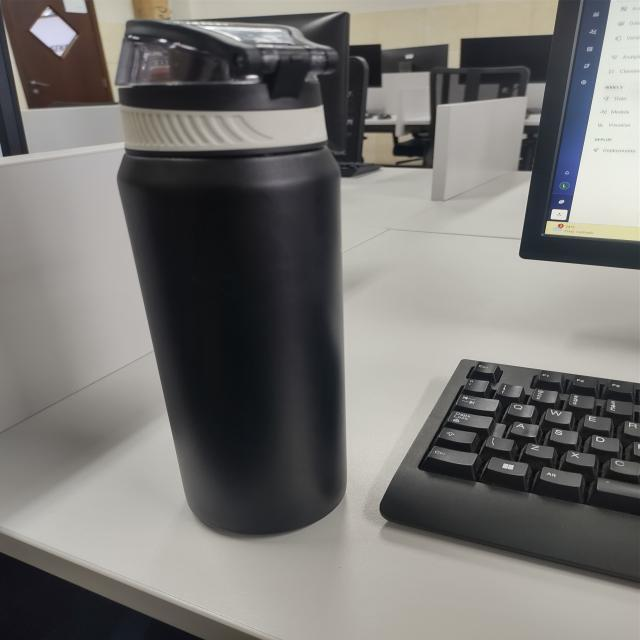Garrafa: (115, 16, 347, 537)
